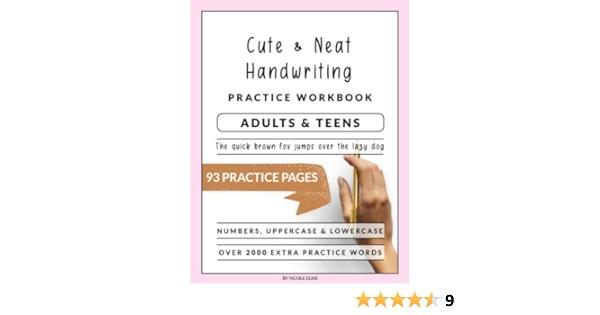text: (245, 60, 353, 84), (214, 141, 386, 154), (245, 35, 352, 55), (227, 91, 372, 104), (218, 248, 382, 258), (238, 116, 361, 129), (216, 226, 384, 235), (205, 171, 318, 184), (280, 275, 319, 281), (444, 293, 455, 308)
